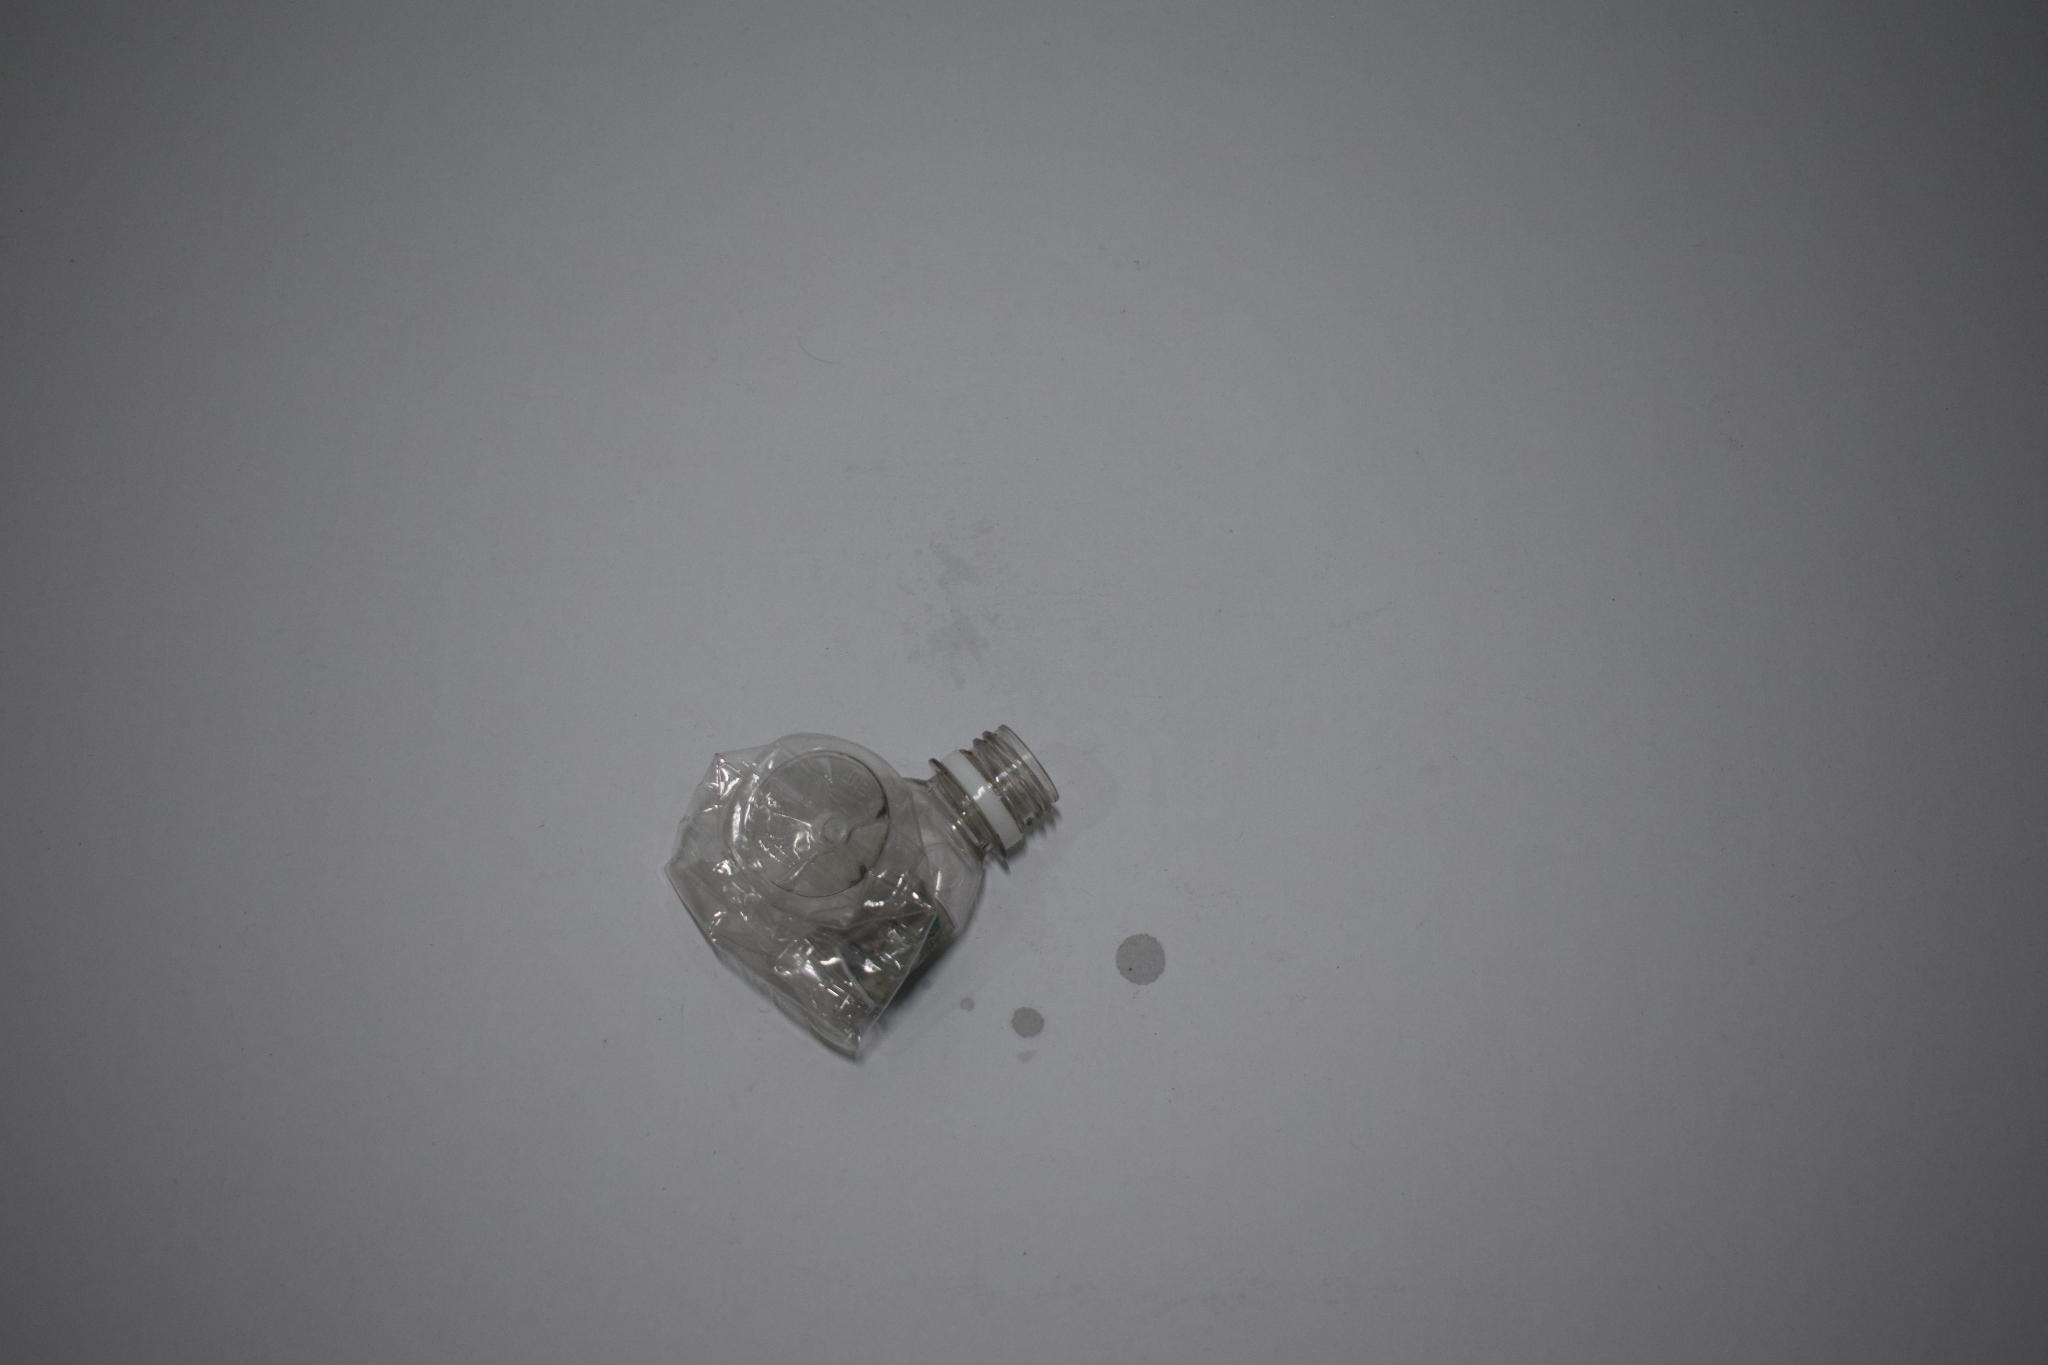bottle: (670, 641, 1058, 996)
